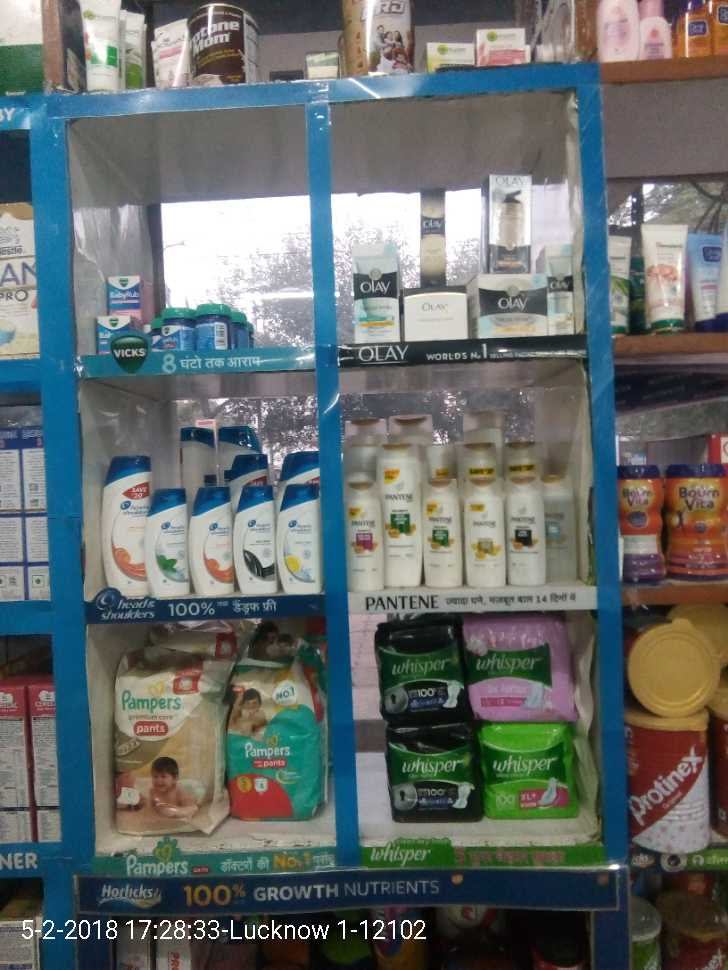vicks: (89, 265, 261, 358)
